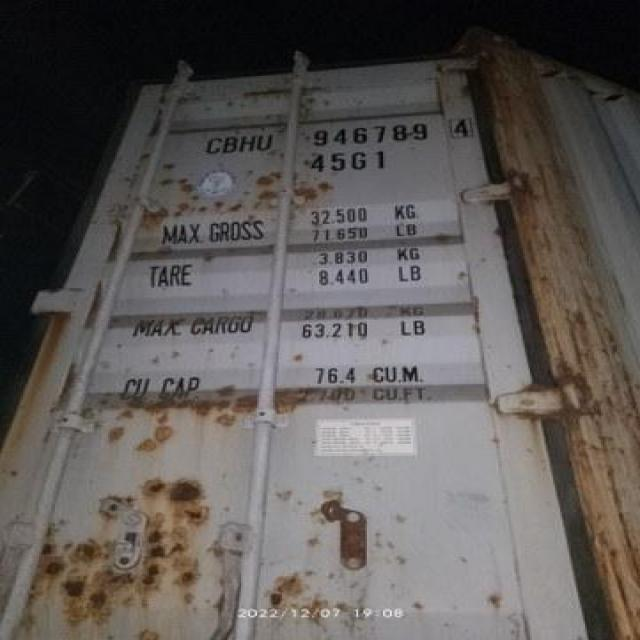ISO: (308, 148, 393, 175)
container_number: (200, 114, 474, 158)
